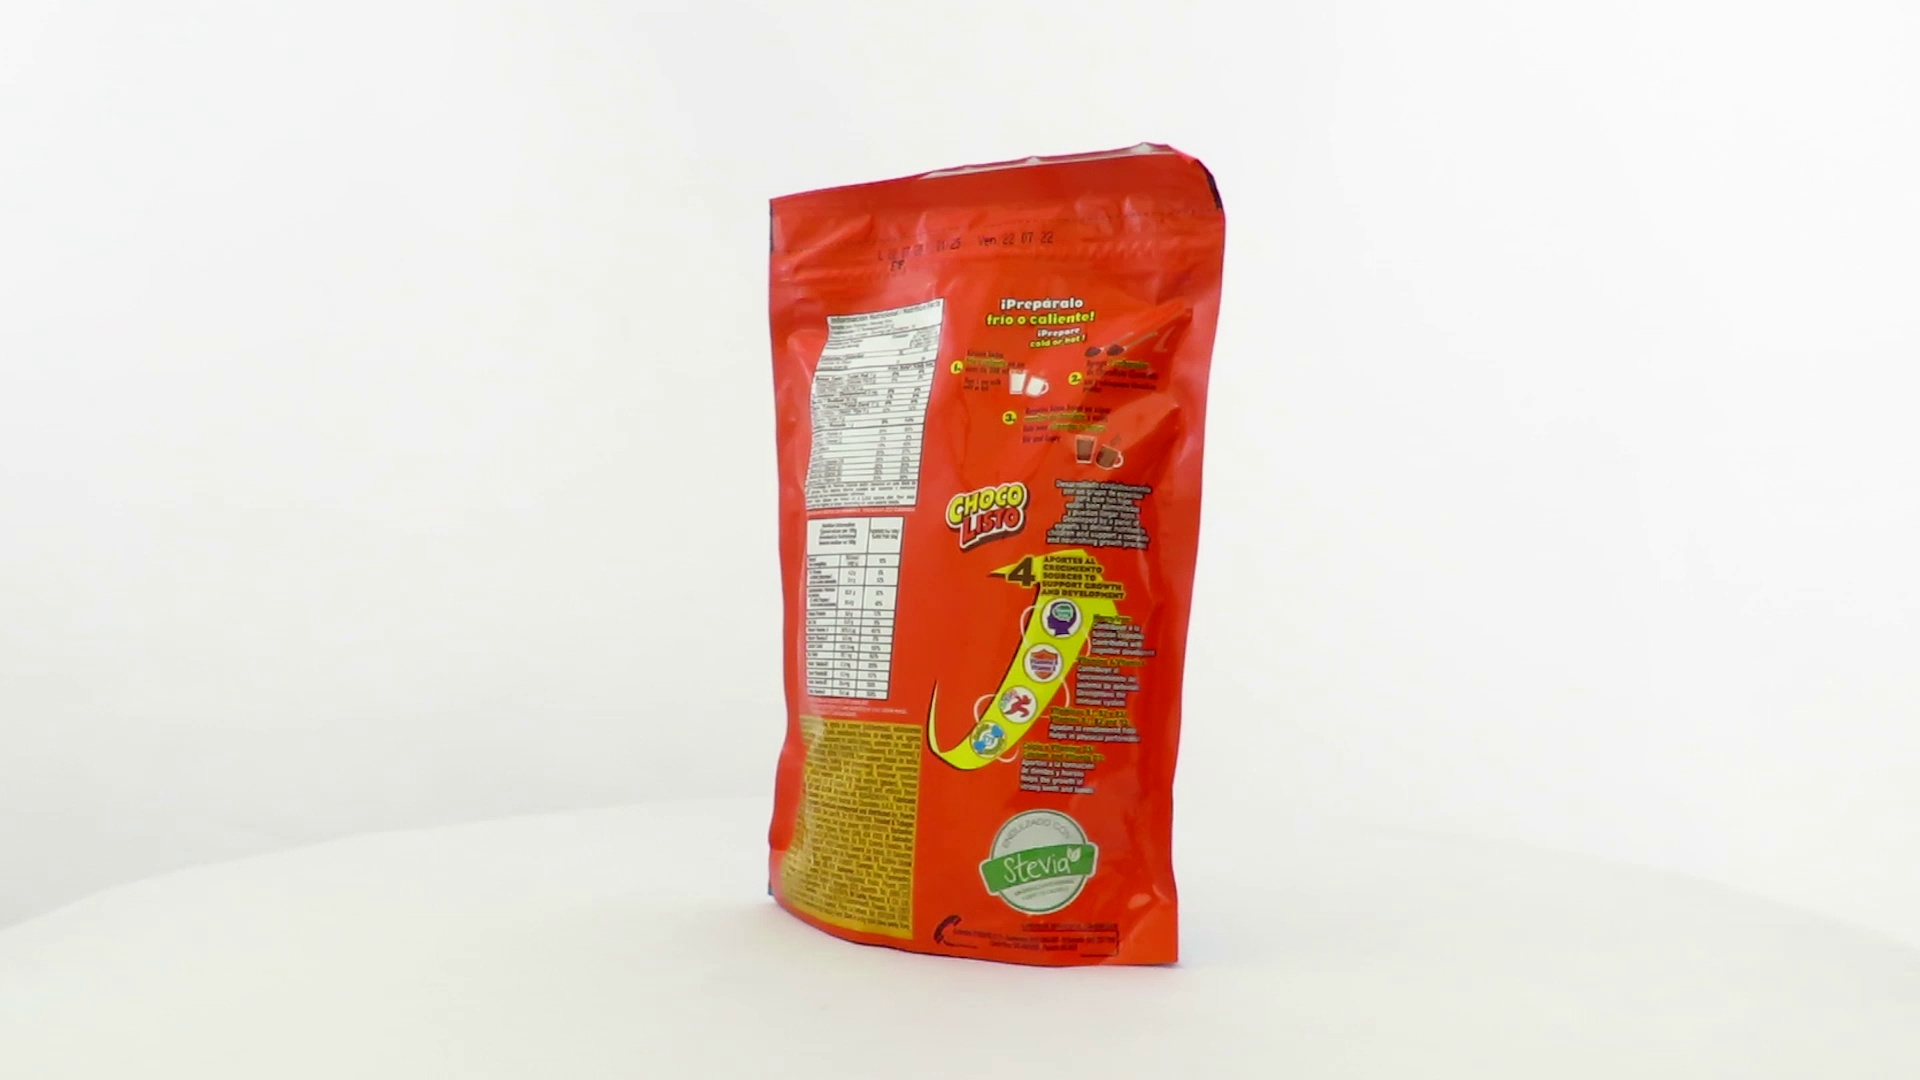COL0170104DYP20000: (735, 136, 1232, 975)
